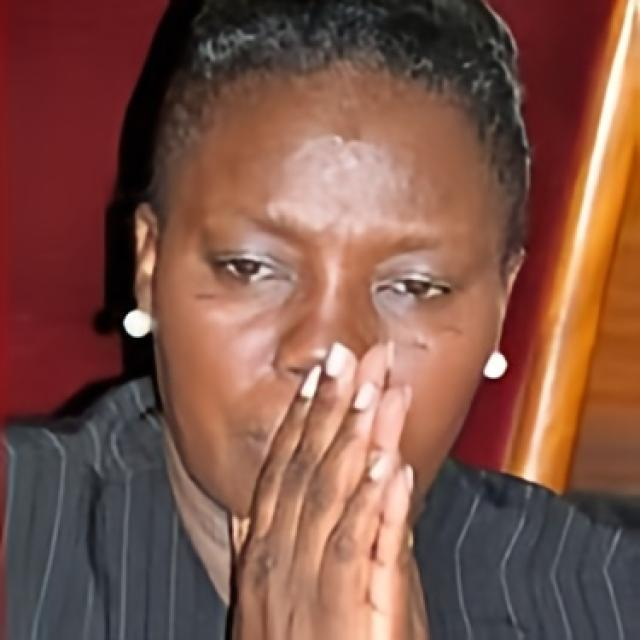sad: (158, 75, 504, 545)
